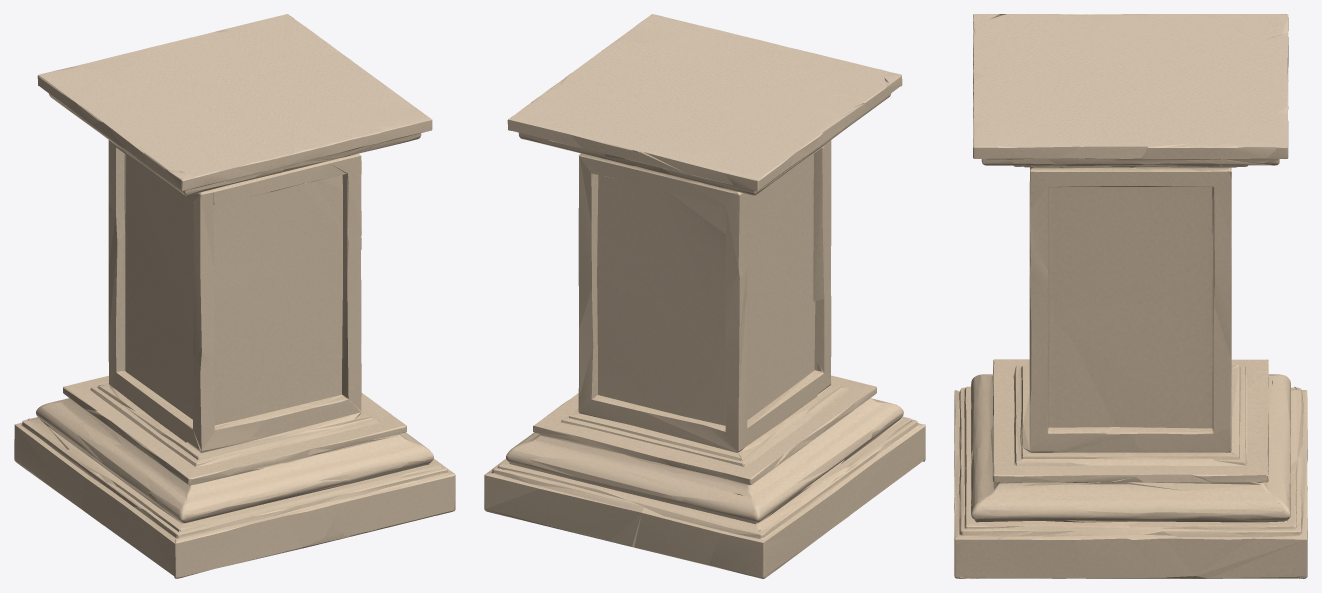
File: pedestal.glb
3 views of the same model, side by side, from view 1: azimuth 30°, elevation 25°; view 2: azimuth 150°, elevation 25°; view 3: azimuth 270°, elevation 25° (orthographic). The views are drawn at different scales.
Visible parts, largest first — view 1: output_unwrapped; view 2: output_unwrapped; view 3: output_unwrapped.
Boxes of the visible parts, left/top/right/bottom form: output_unwrapped: left=14, top=14, right=455, bottom=578; output_unwrapped: left=484, top=14, right=925, bottom=578; output_unwrapped: left=954, top=14, right=1307, bottom=578.
Bounding box in the file's own units: 1.43 × 1.9 × 1.43.
Materials: 1 (1 with a texture image).
